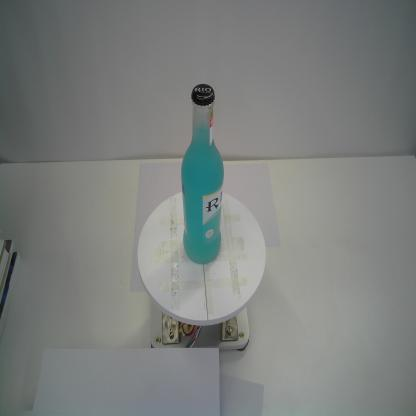Alcohol: (180, 83, 224, 265)
